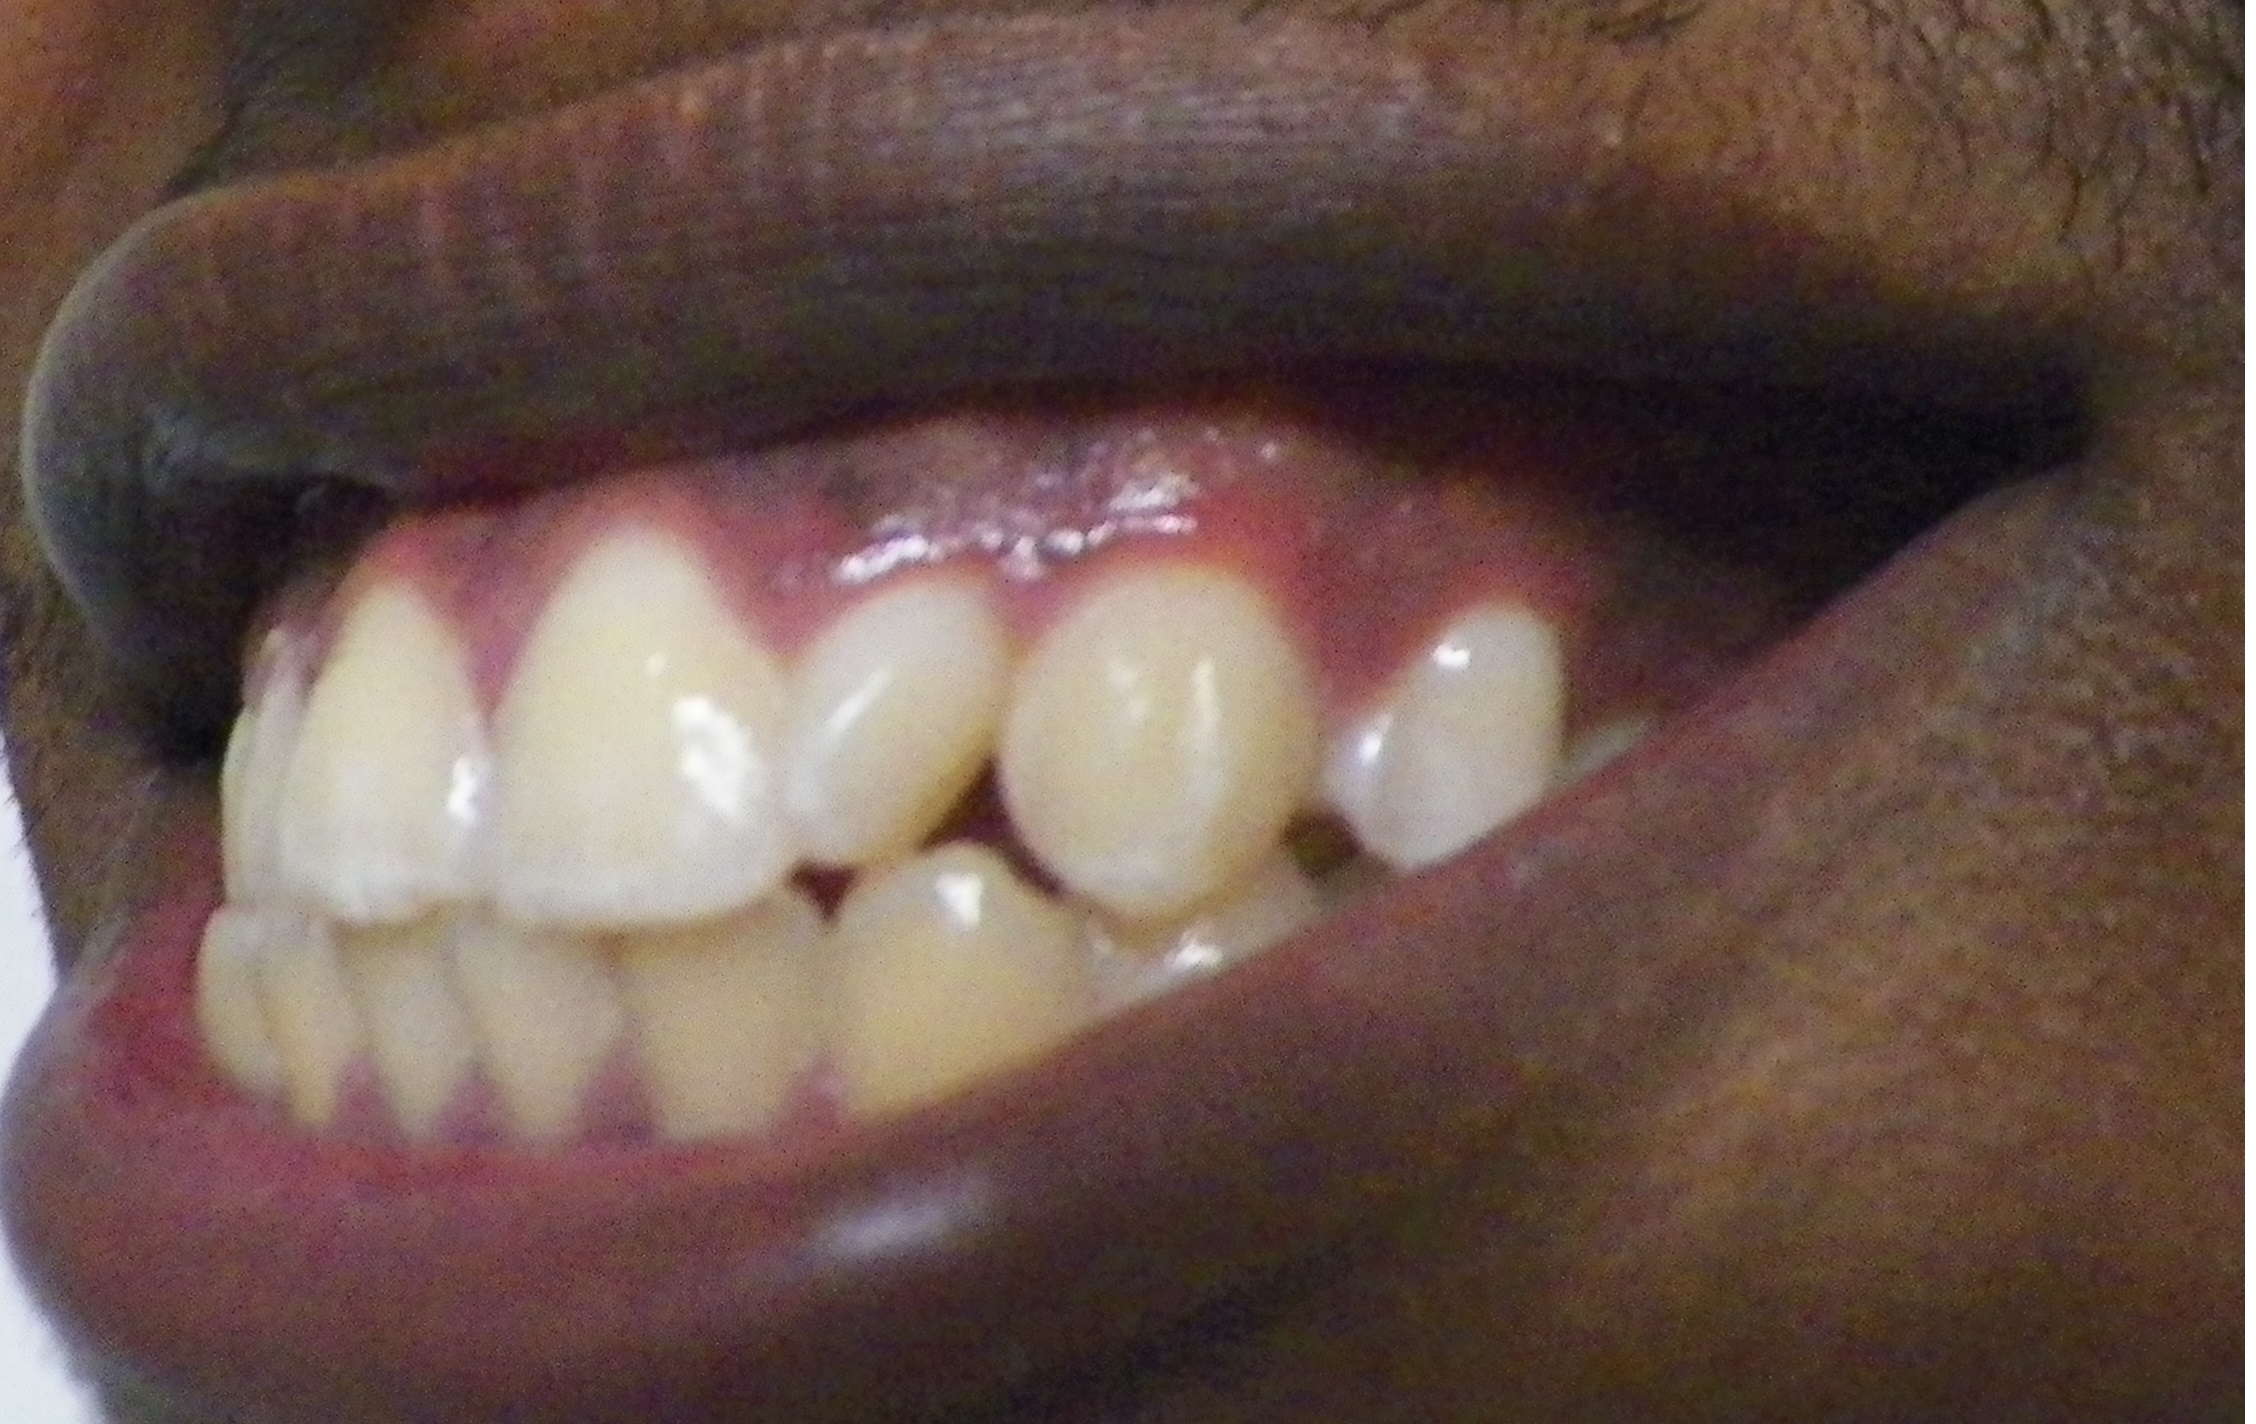boca: (194, 576, 1669, 1143)
